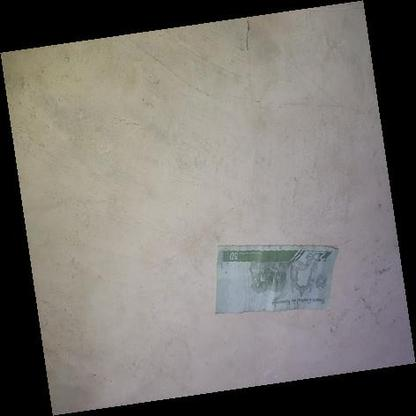fifty-back-vef: (214, 244, 339, 314)
